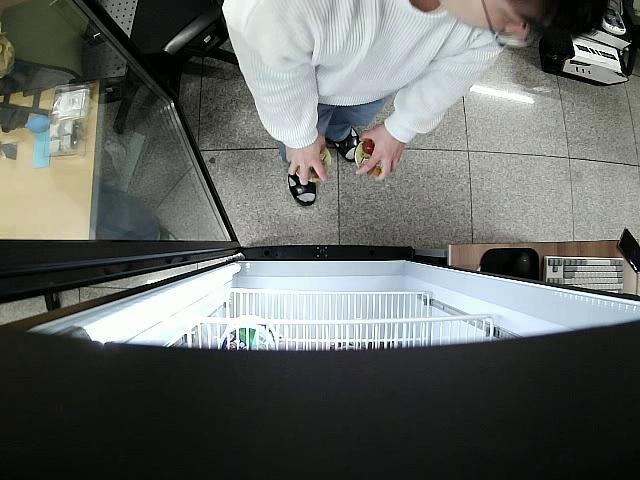04_chapagetti_S: (355, 139, 396, 177), (296, 146, 332, 182)
